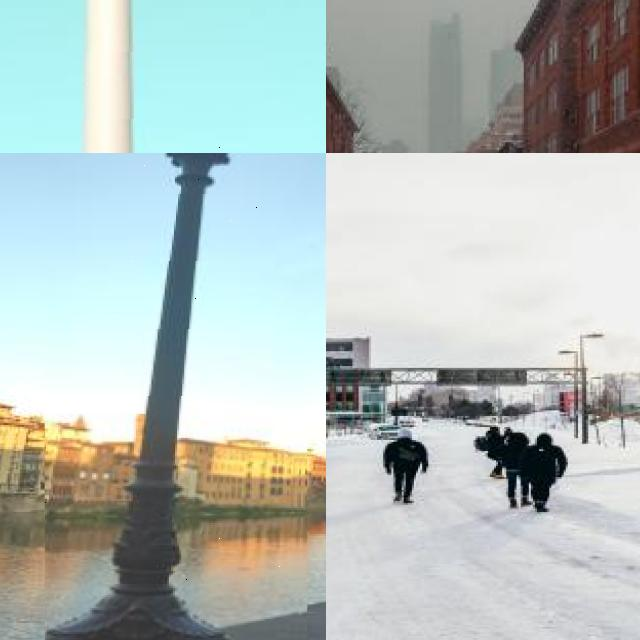street light: (44, 153, 307, 640), (0, 0, 326, 153), (558, 349, 588, 445), (580, 333, 604, 441)
